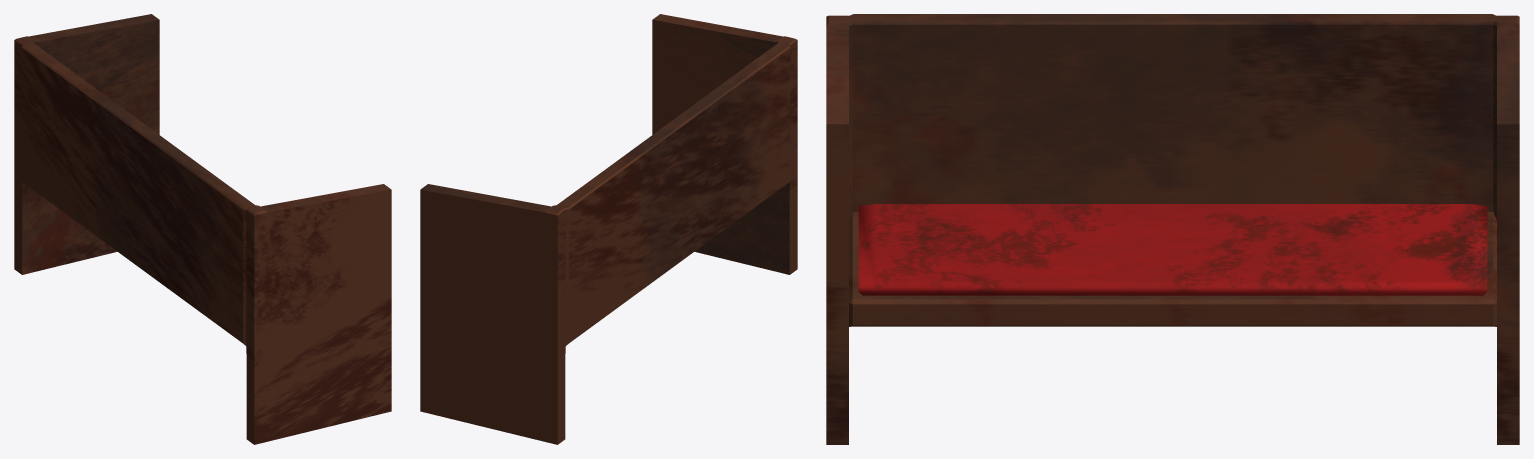
The model's file is pew.fbx.
3 renders of one model, left to right at view 1: azimuth 30°, elevation 25°; view 2: azimuth 150°, elevation 25°; view 3: azimuth 270°, elevation 25°, orthographic. The views are drawn at different scales.
Parts seen in each view (by area): view 1: Church_pew:pCube9; view 2: Church_pew:pCube9; view 3: Church_pew:pCube9.
Boxes of the visible parts, box(x1,y1,x2,y2) form: Church_pew:pCube9: box(14, 14, 391, 444); Church_pew:pCube9: box(420, 14, 797, 444); Church_pew:pCube9: box(826, 14, 1519, 444).
Size of the model in its own units: 2.84 by 4.41 by 8.3.
1 material, 1 textured.
